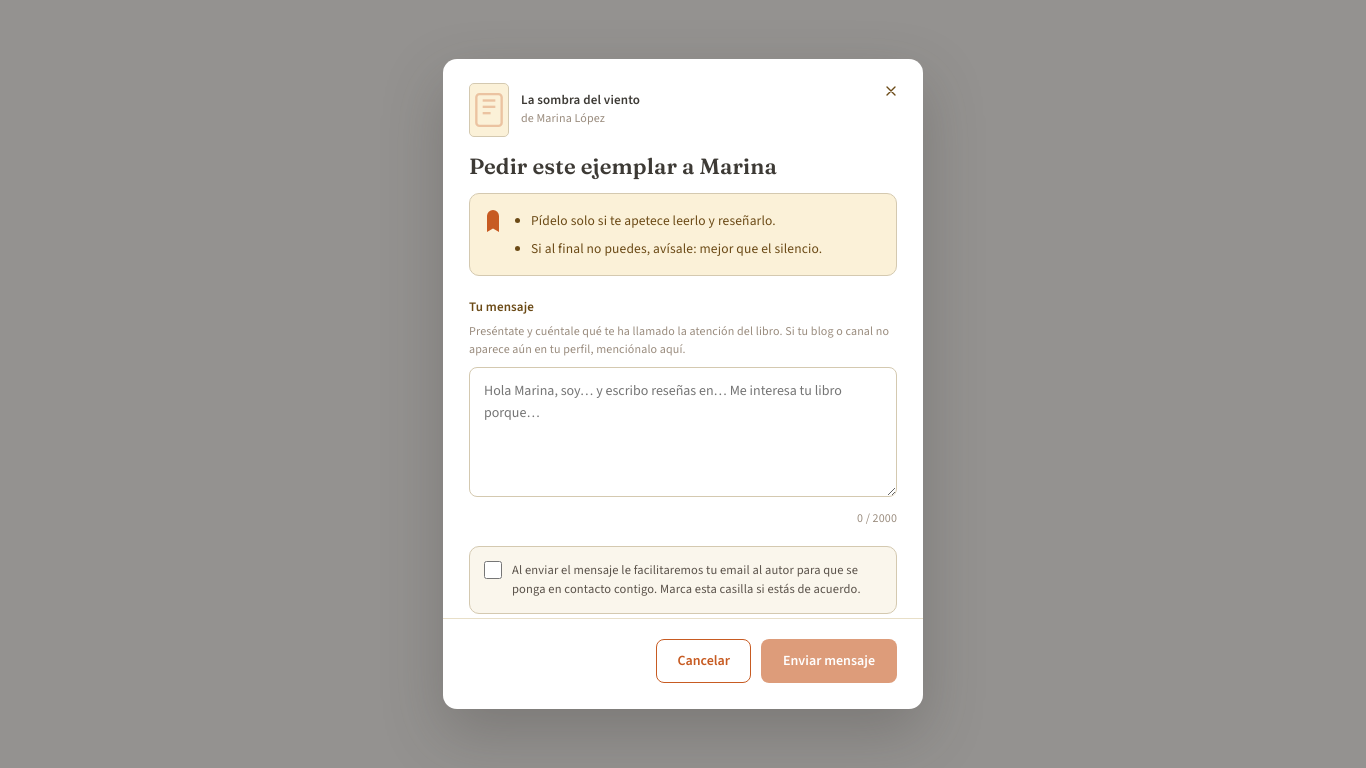
Test: ContactModal — send button enable logic › re-disables immediately when consent is unchecked
The width and height of the screenshot is (1366, 768).
Click the checkbox labelled "Al enviar el mensaje le facilitaremos tu email".
click(493, 570)  # box [484,561,502,579]
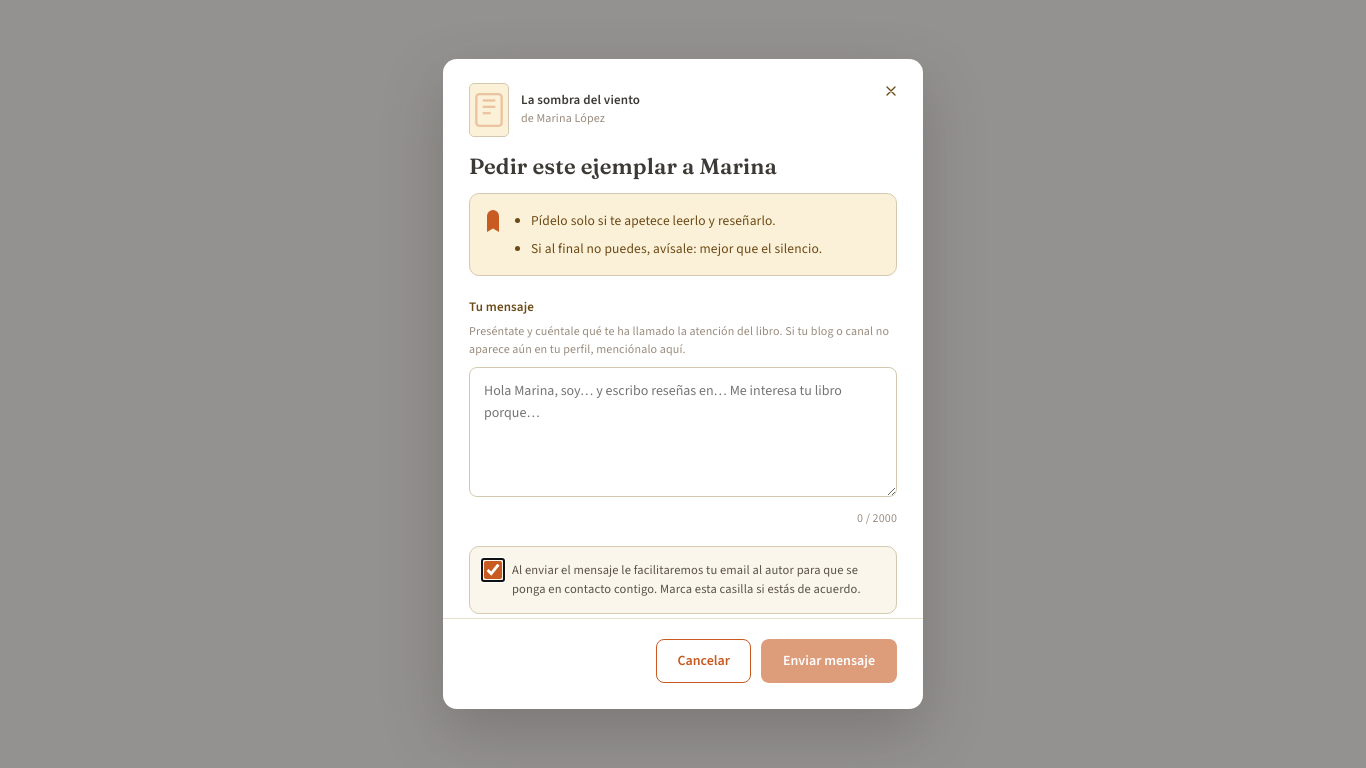
Type "Hola" into the text box labelled "Tu mensaje".
click(683, 432); type("Hola")  # box [469,367,897,497]
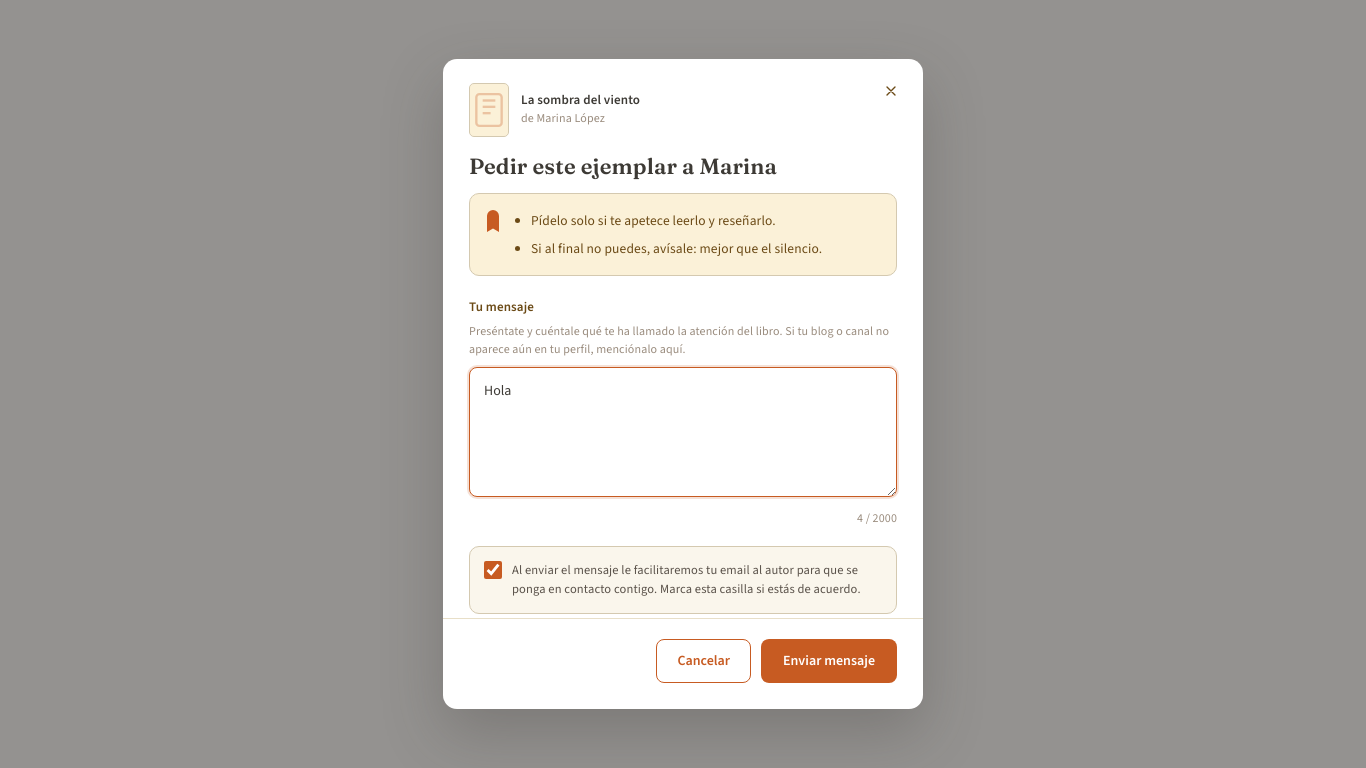
Expected: the button "Enviar mensaje" is enabled, [761,639,897,683]
Click the checkbox labelled "Al enviar el mensaje le facilitaremos tu email".
click(493, 570)  # box [484,561,502,579]
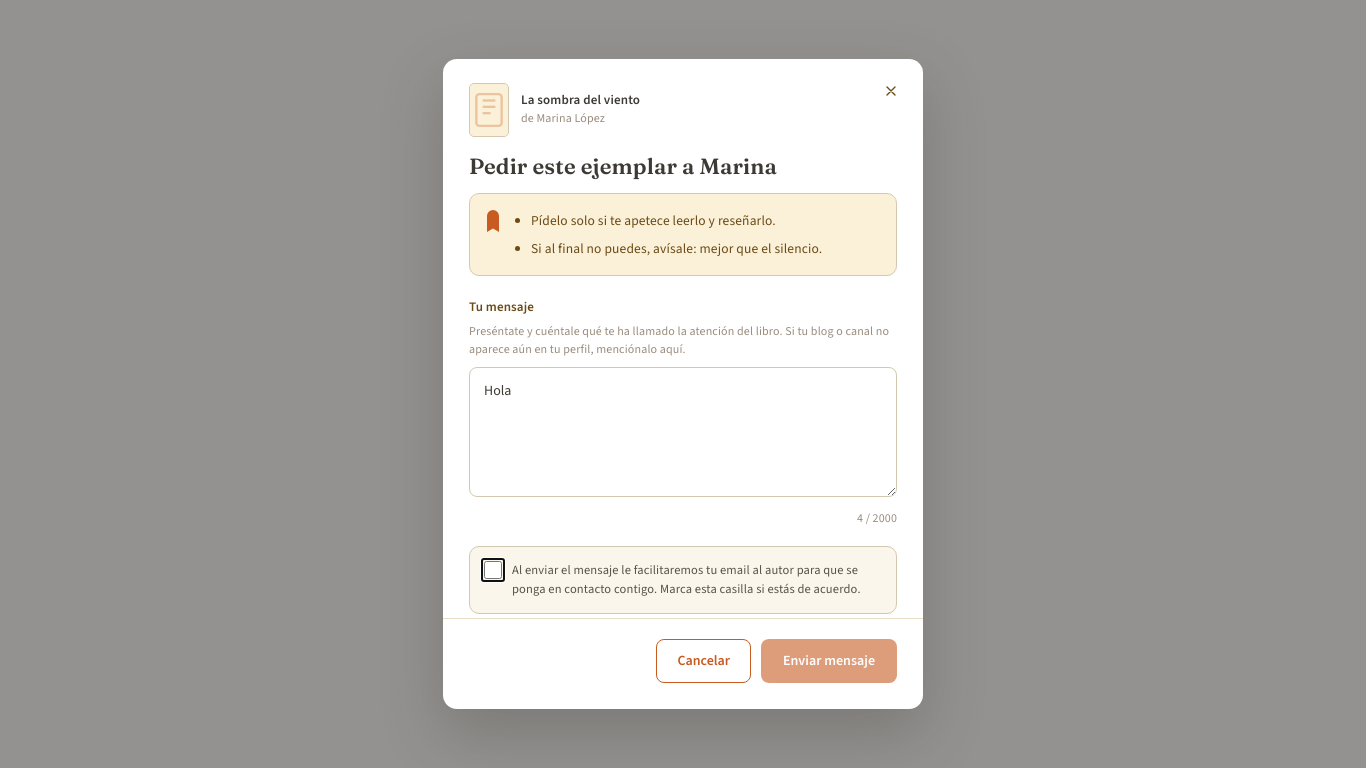
Expected: the button "Enviar mensaje" is disabled, [761,639,897,683]
